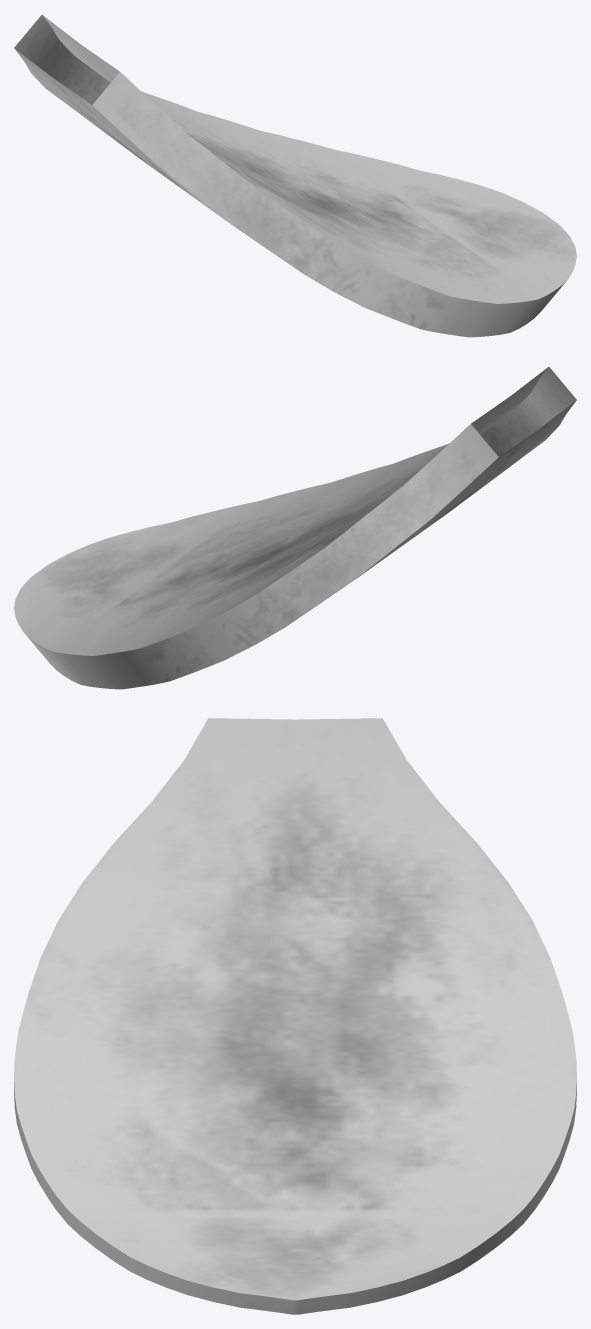
File: f2_colider.fbx
3 views of the same model, one above another, from view 1: azimuth 30°, elevation 25°; view 2: azimuth 150°, elevation 25°; view 3: azimuth 270°, elevation 25° (orthographic). The views are drawn at different scales.
Visible parts, largest first — view 1: f1.001; view 2: f1.001; view 3: f1.001.
Part boxes in pixels (box(x1,y1,x2,y2)): f1.001: box(14, 15, 576, 337); f1.001: box(14, 367, 576, 689); f1.001: box(14, 718, 576, 1314).
Size of the model in its own units: 50.46 by 30.75 by 44.16.
